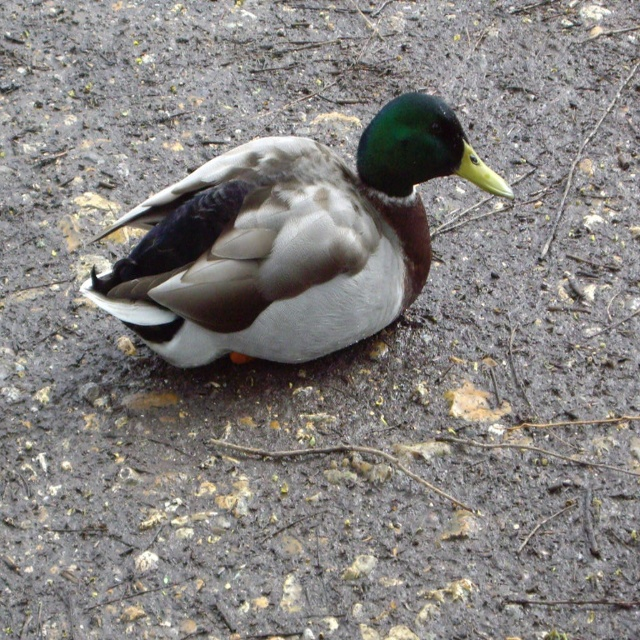Duck: (76, 92, 519, 381)
